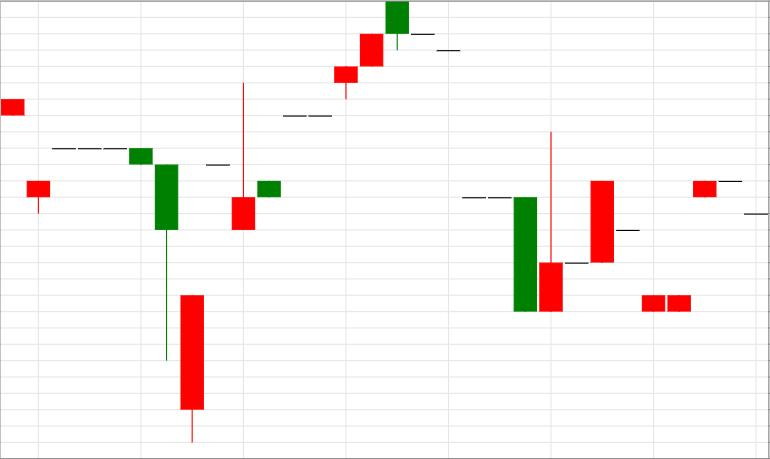inverse_hammer_rise: (386, 1, 563, 311)
